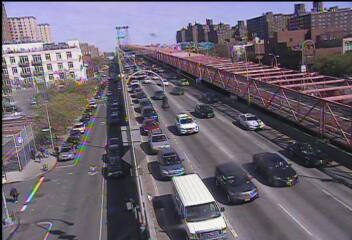neg: (63, 139, 85, 170), (76, 109, 91, 129), (43, 166, 54, 181), (62, 95, 73, 110), (86, 79, 95, 92)
pos: (8, 183, 24, 204), (36, 140, 50, 159), (21, 144, 35, 162)
